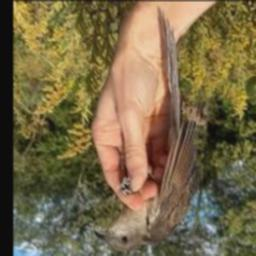Cuckoo: (94, 11, 202, 254)
